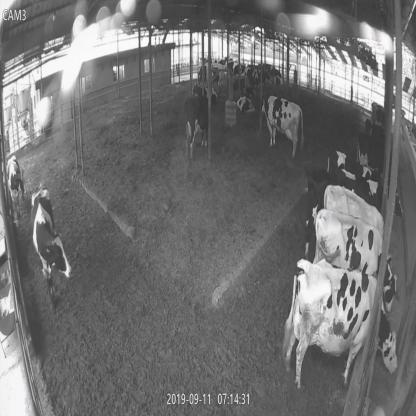cow: (283, 258, 398, 387), (316, 208, 393, 281), (30, 182, 72, 300), (262, 95, 304, 158), (185, 96, 208, 158), (6, 156, 26, 212), (192, 83, 217, 109), (236, 91, 254, 113)
